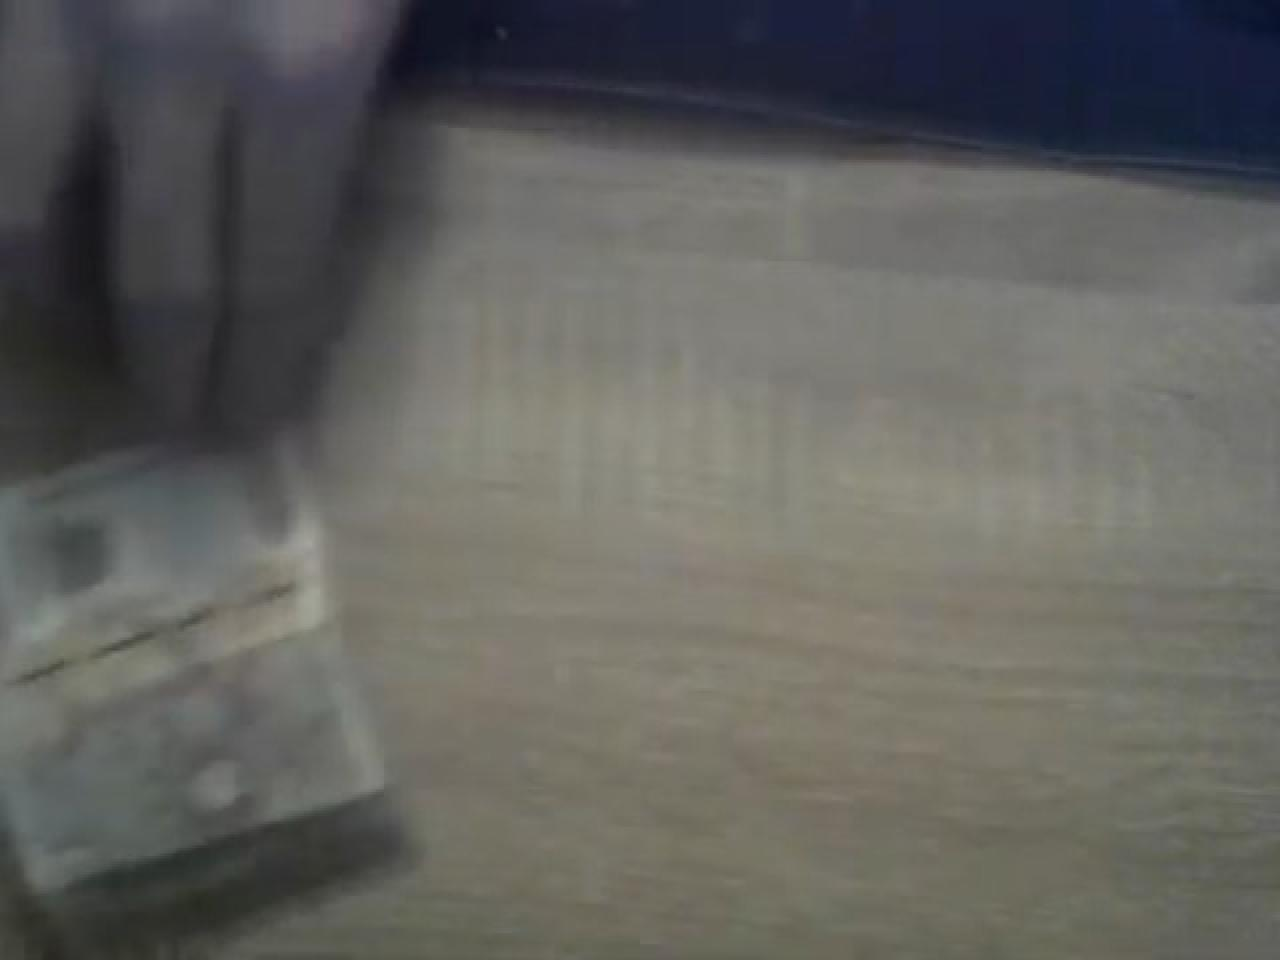10leva: (0, 421, 411, 960)
